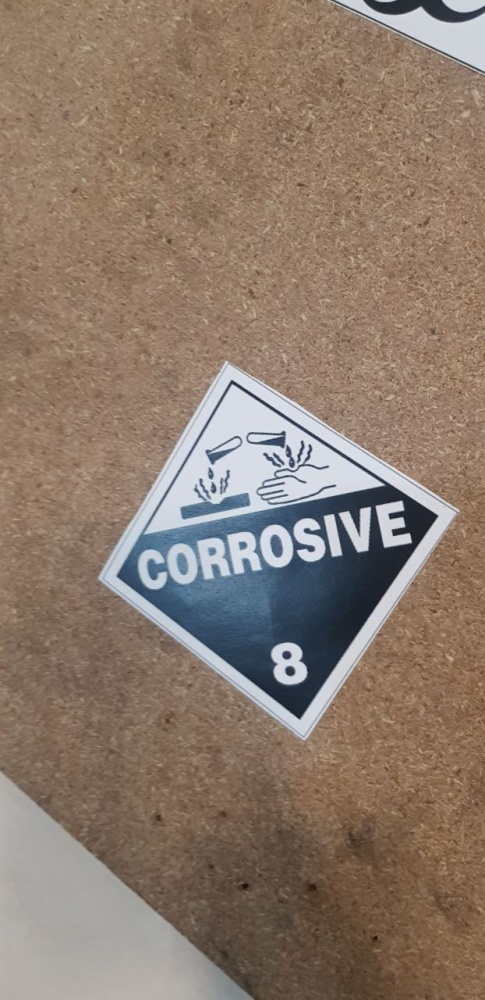Corrosive: (98, 361, 460, 741)
